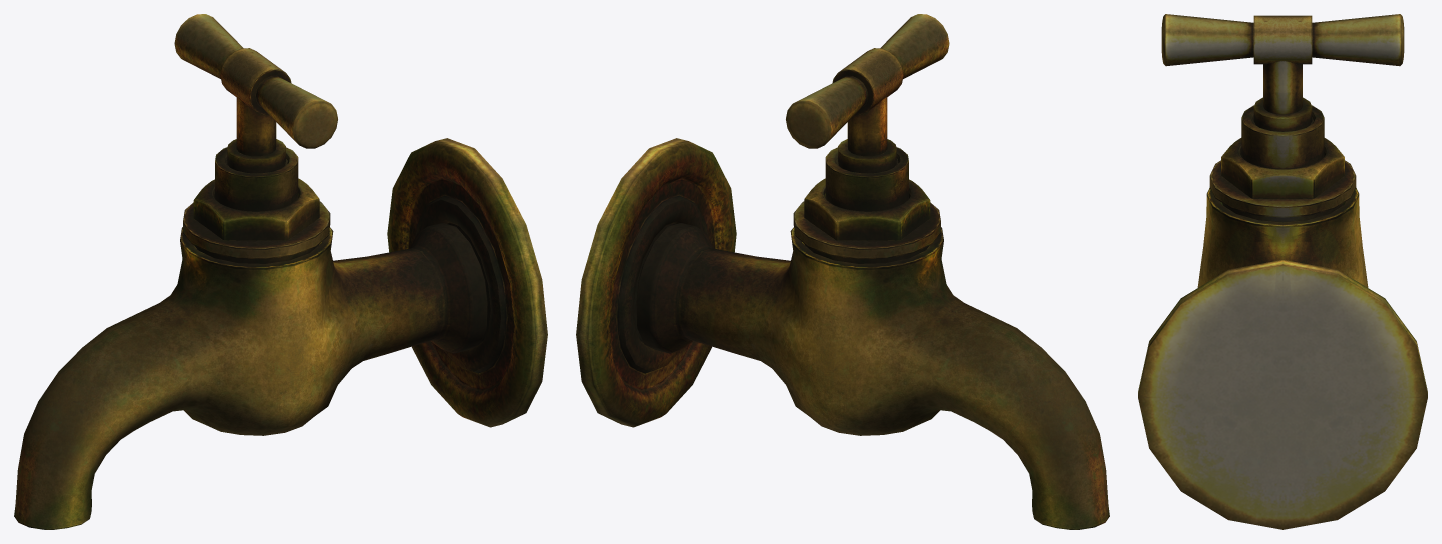
Rendered from obj_tap_lp_1f69ab.glb.
3 views of the same model, side by side, from view 1: azimuth 30°, elevation 25°; view 2: azimuth 150°, elevation 25°; view 3: azimuth 270°, elevation 25° (orthographic).
Parts seen in each view (by area): view 1: obj_tap_lp_1f69ab; view 2: obj_tap_lp_1f69ab; view 3: obj_tap_lp_1f69ab.
Part boxes in pixels (x1,y1,x2,y2): obj_tap_lp_1f69ab: (14, 14, 547, 529); obj_tap_lp_1f69ab: (576, 14, 1109, 529); obj_tap_lp_1f69ab: (1138, 14, 1427, 529).
Size of the model in its own units: 0.2912 by 0.25 by 0.1612.
Materials: 1 (1 with a texture image).
